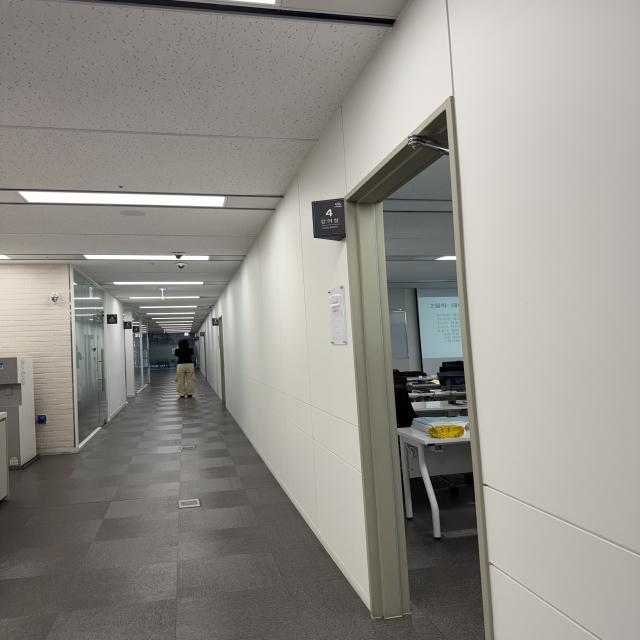room4: (312, 199, 345, 240)
